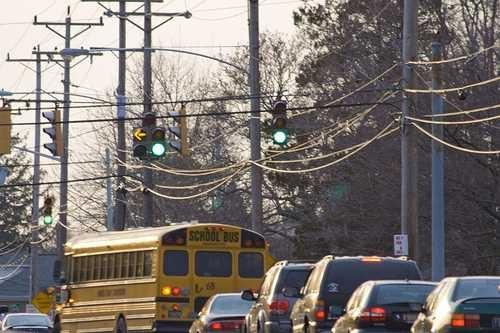green: (272, 96, 289, 151), (152, 126, 169, 160), (152, 142, 166, 158), (274, 130, 287, 146)
